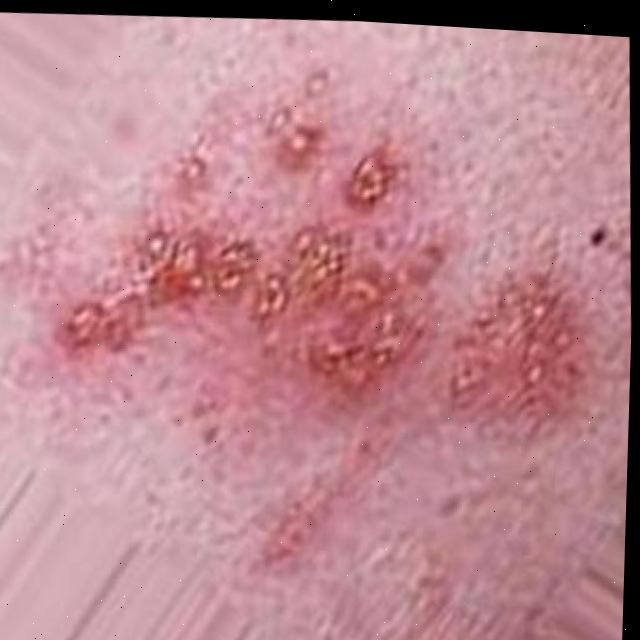Shingles: (34, 89, 593, 451)
